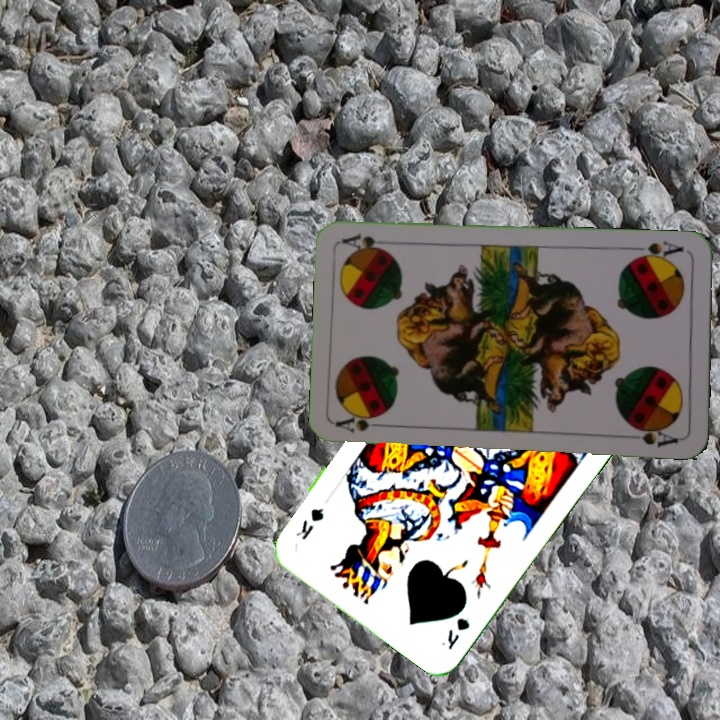GK: (437, 613, 473, 652)
SA: (629, 237, 686, 264), (333, 412, 392, 436)
